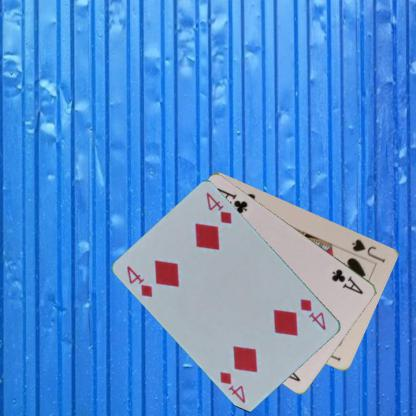4d: (298, 296, 330, 332), (124, 263, 154, 301)
Ac: (329, 266, 365, 296)
Js: (350, 236, 387, 264)
